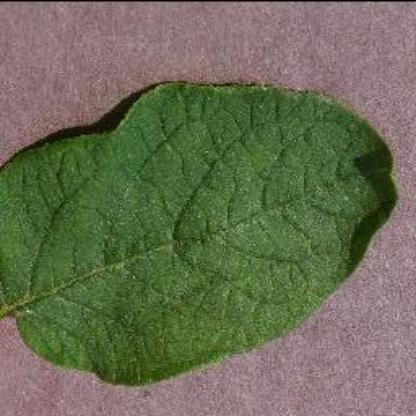Healthy-plant: (0, 68, 398, 389)
